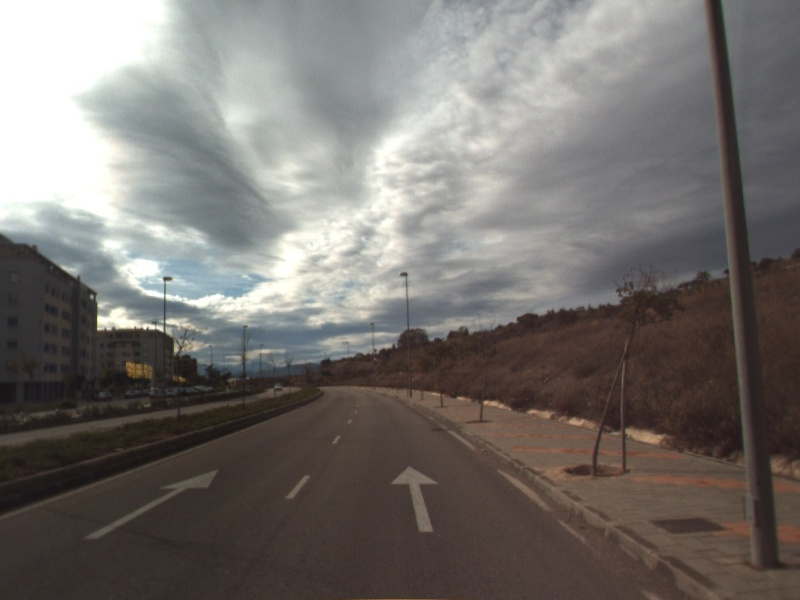STRAIGHT: (81, 467, 221, 542), (388, 464, 441, 534)
